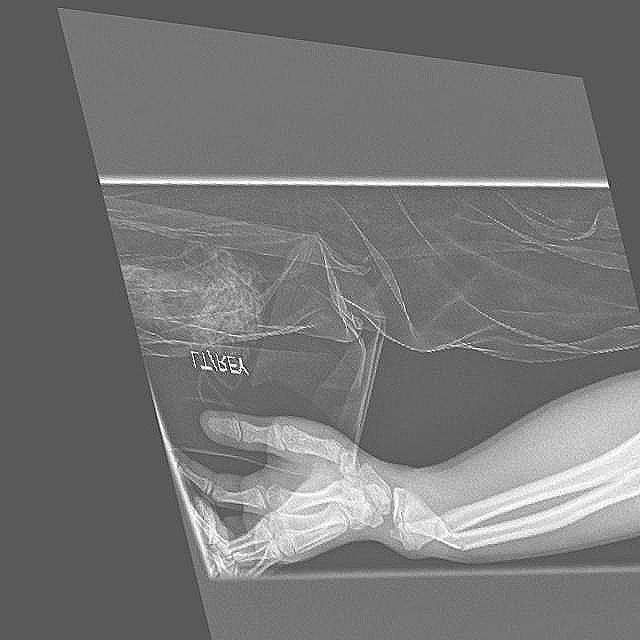bone: (396, 492, 469, 563)
